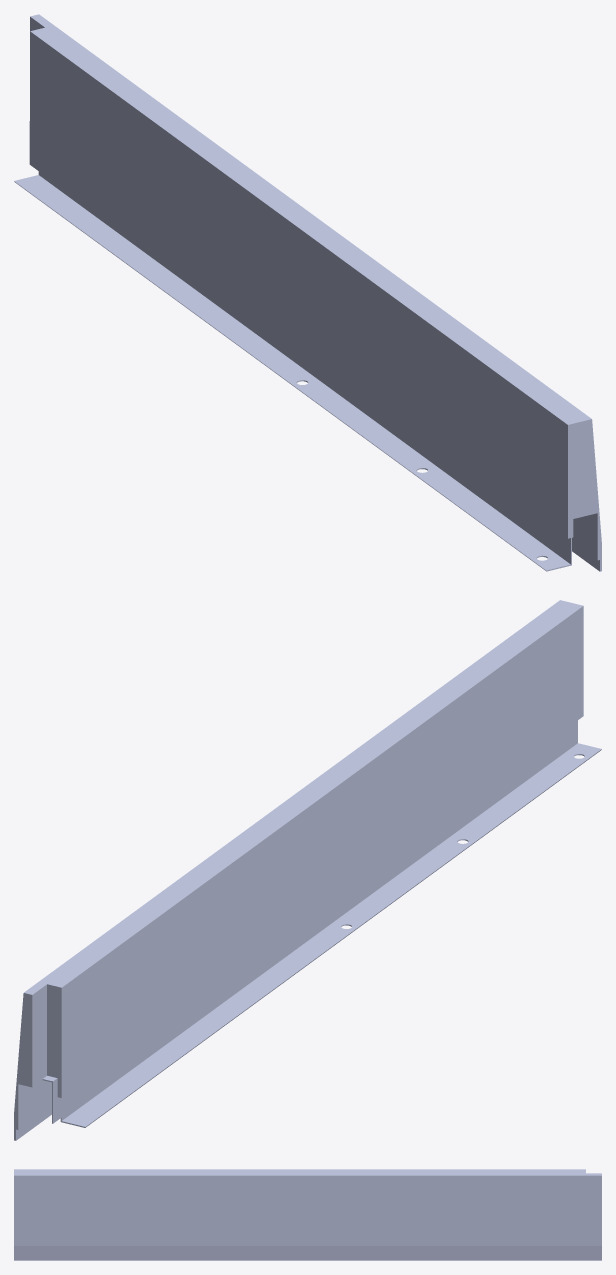
File: mv-kava-M600-m.glb
The picture shows the model from 3 angles, top to bottom: view 1: azimuth 30°, elevation 25°; view 2: azimuth 150°, elevation 25°; view 3: azimuth 270°, elevation 25°; orthographic projection. The views are drawn at different scales.
Parts seen in each view (by area): view 1: 46379071; view 2: 46379071; view 3: 46379071.
Part boxes in pixels (left/top/right/bottom): 46379071: left=14, top=14, right=601, bottom=571; 46379071: left=14, top=600, right=601, bottom=1140; 46379071: left=14, top=1169, right=601, bottom=1260.
Bounding box in the file's own units: 0.0335 × 0.091 × 0.5902.
